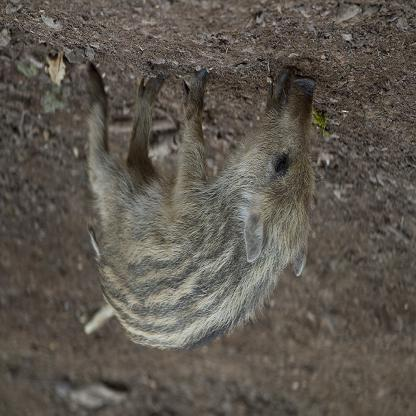boar: (76, 56, 324, 354)
